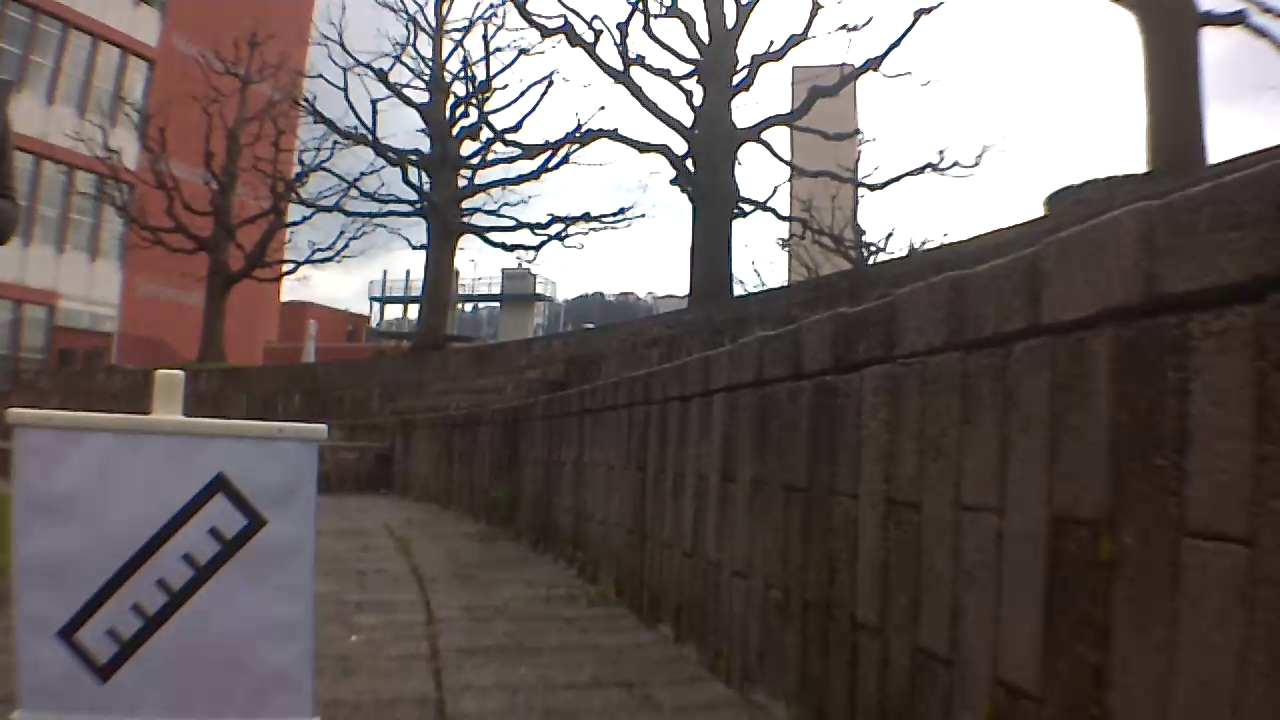ruler: (51, 469, 275, 686)
